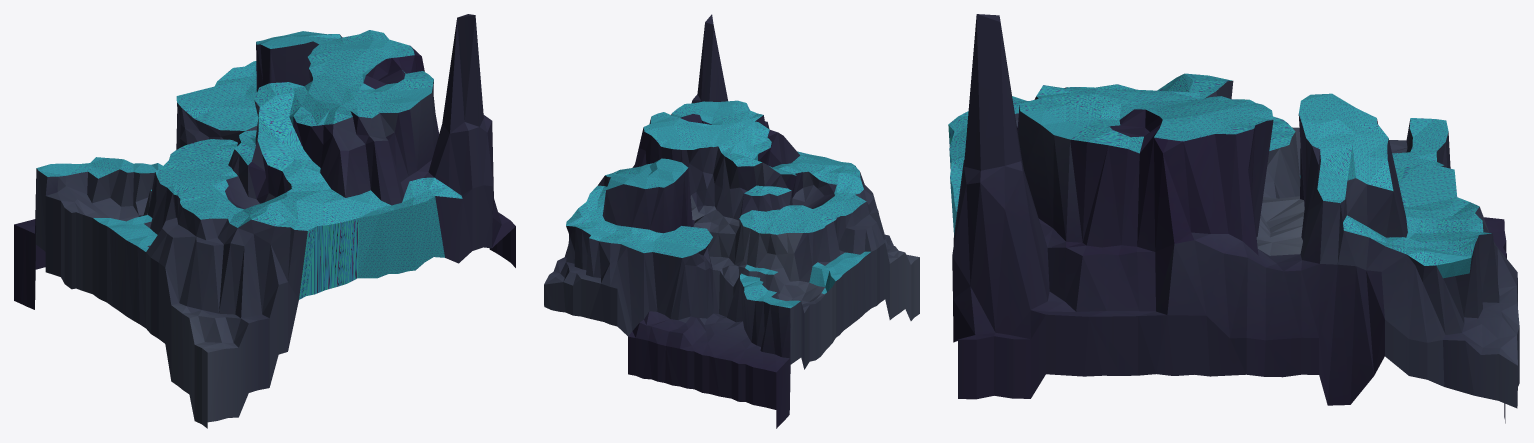
The model's file is Terrain_Mountains 1.fbx.
3 views of the same model, side by side, from view 1: azimuth 30°, elevation 25°; view 2: azimuth 150°, elevation 25°; view 3: azimuth 270°, elevation 25° (orthographic). The views are drawn at different scales.
Visible parts, largest first — view 1: Mountains; view 2: Mountains; view 3: Mountains.
Part boxes in pixels (x1,y1,x2,y2): Mountains: (14,14,515,428); Mountains: (544,14,919,428); Mountains: (948,14,1519,423).
Bounding box in the file's own units: 9320 × 10061 × 10389.
